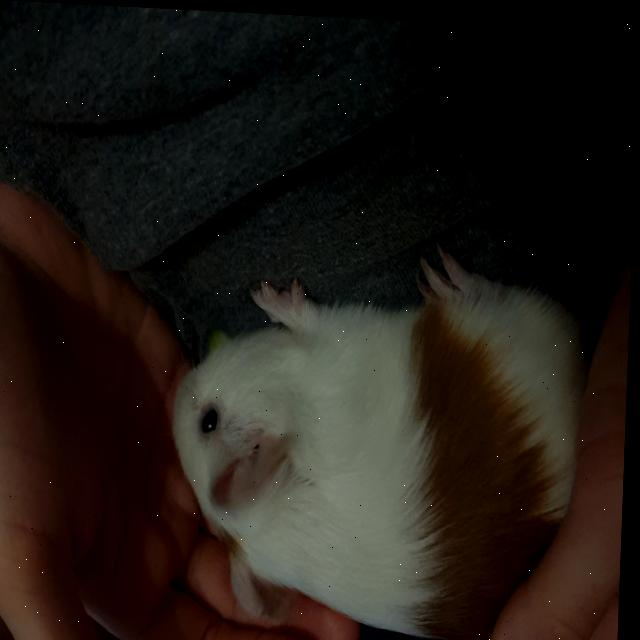guinea pig: (166, 224, 602, 640)
